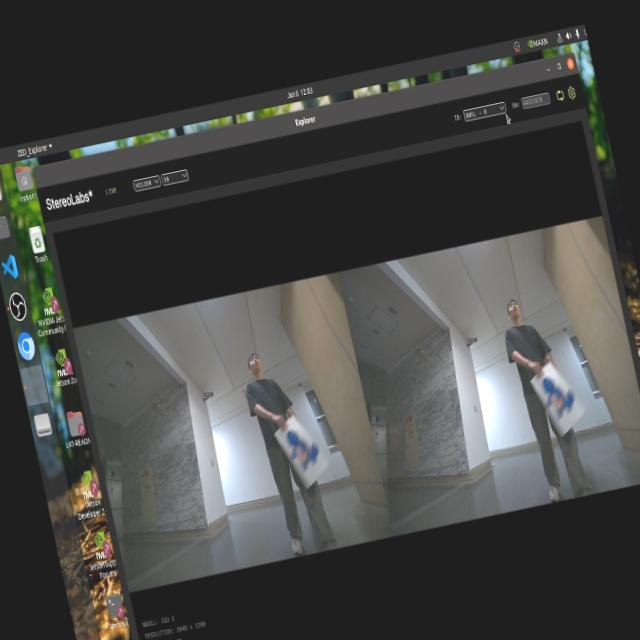blue: (279, 414, 335, 476), (538, 371, 578, 421)
